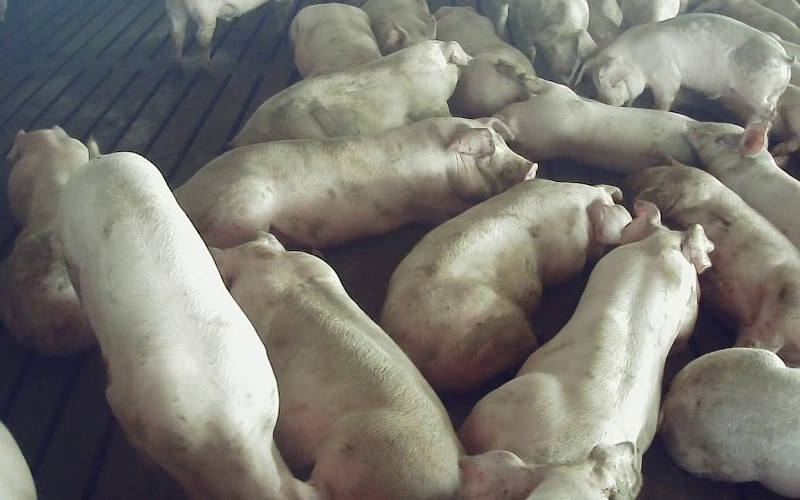pig: (61, 140, 314, 497), (461, 202, 712, 473), (212, 234, 461, 499), (382, 179, 630, 390), (629, 162, 799, 365), (231, 40, 470, 147), (495, 62, 698, 173), (0, 126, 95, 354), (589, 13, 791, 120), (660, 348, 799, 497), (687, 120, 799, 248), (435, 7, 535, 117), (507, 0, 596, 84), (290, 3, 381, 77), (362, 0, 435, 54)
